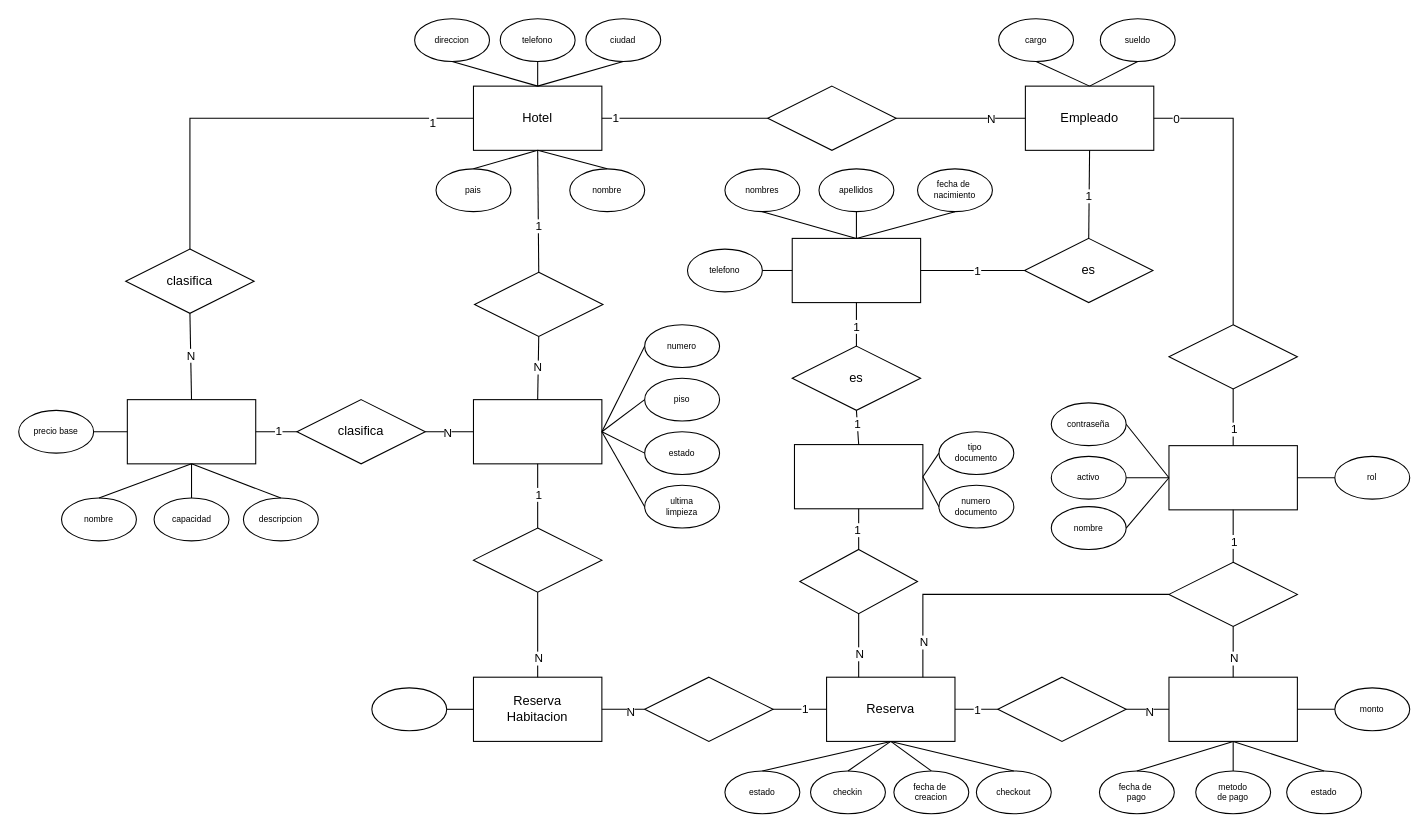
The diagram is 1428 pixels wide and 832 high, and some of its shapes have lost their labels. Each missing label, with the centre of its shape:
asignada en: the point at 537,559
Cliente: the point at 858,476
contiene: the point at 538,304
efectua: the point at 858,581
genera: the point at 1061,708
Habitacion: the point at 537,431
incluye: the point at 708,708
Pago: the point at 1232,708
Persona: the point at 856,270
precio_noche: the point at 409,709
puede tener: the point at 1232,356
registra: the point at 1232,593
tiene: the point at 831,117
Tipo Habitacion: the point at 191,431
Usuario: the point at 1232,477
